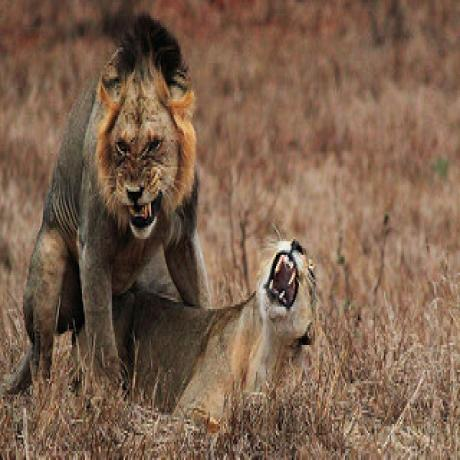Lion: (10, 4, 201, 400), (125, 234, 329, 420)
